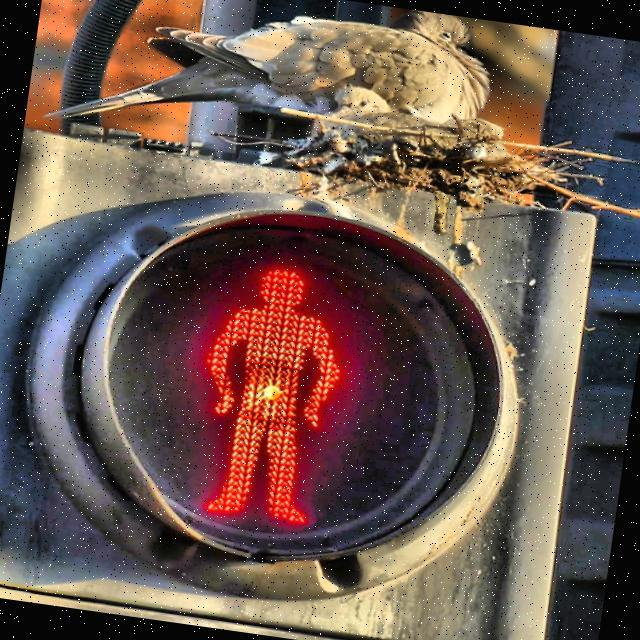red_light: (180, 252, 364, 538)
